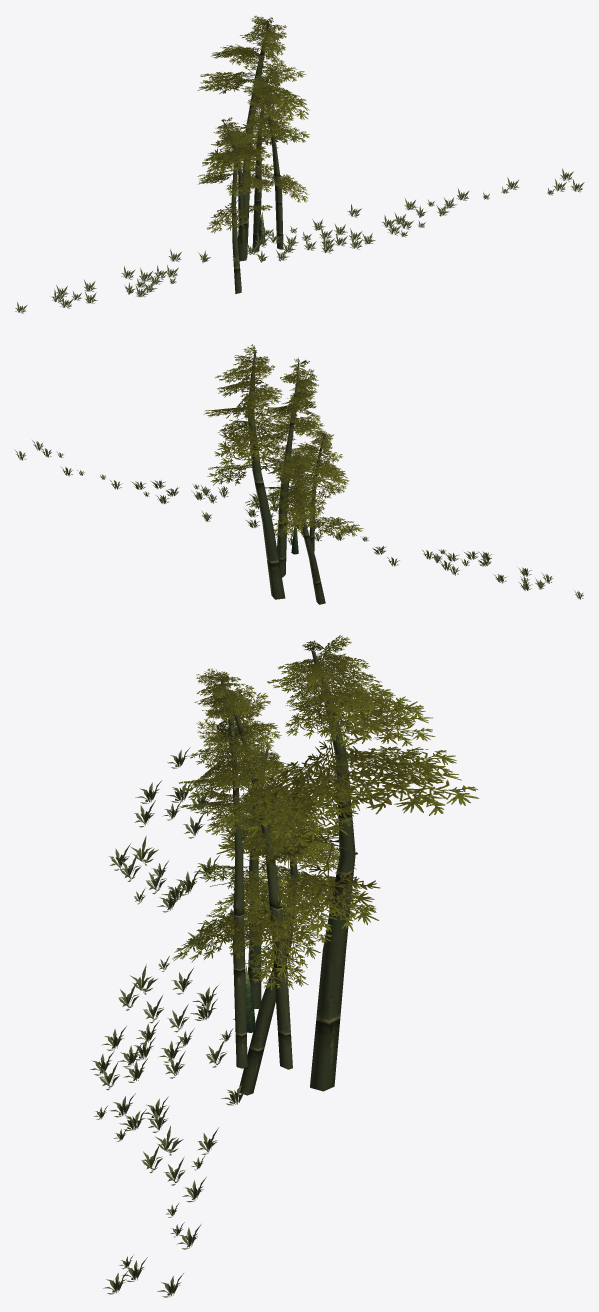
File: Area_06_21.fbx
The picture shows the model from 3 angles, top to bottom: view 1: azimuth 30°, elevation 25°; view 2: azimuth 150°, elevation 25°; view 3: azimuth 270°, elevation 25°; orthographic projection. The views are drawn at different scales.
Visible parts, largest first — view 1: Area_06_21; view 2: Area_06_21; view 3: Area_06_21.
Part boxes in pixels (bbox=[...]): Area_06_21: bbox=[15, 15, 584, 313]; Area_06_21: bbox=[14, 344, 583, 604]; Area_06_21: bbox=[90, 635, 479, 1297].
Size of the model in its own units: 4729 by 2052 by 1549.
